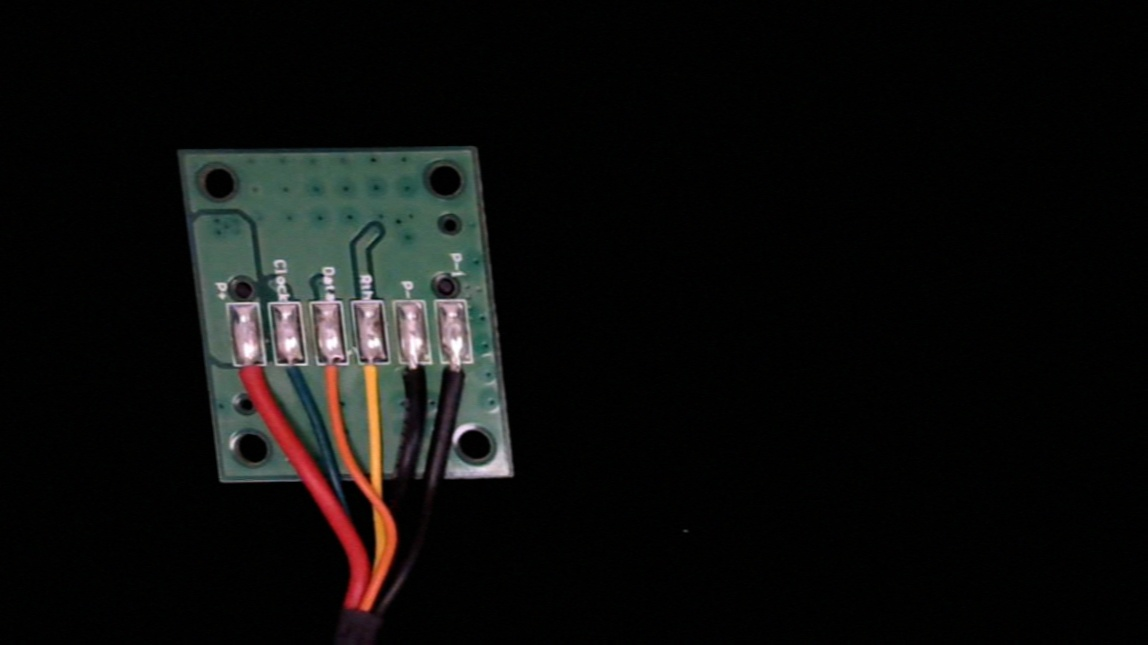Black: (398, 348, 436, 413)
Black1: (442, 348, 483, 415)
Green: (272, 344, 312, 407)
Orange: (314, 346, 353, 408)
Red: (230, 345, 274, 415)
Yellow: (358, 347, 394, 415)
